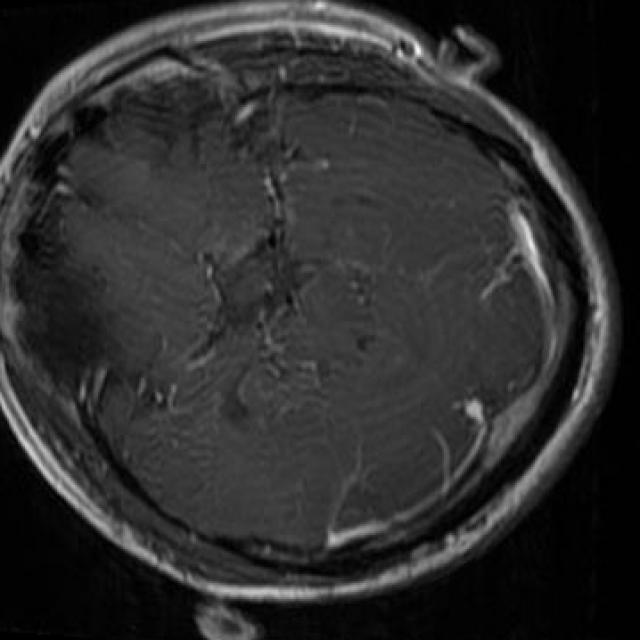glioma: (219, 226, 305, 328)
